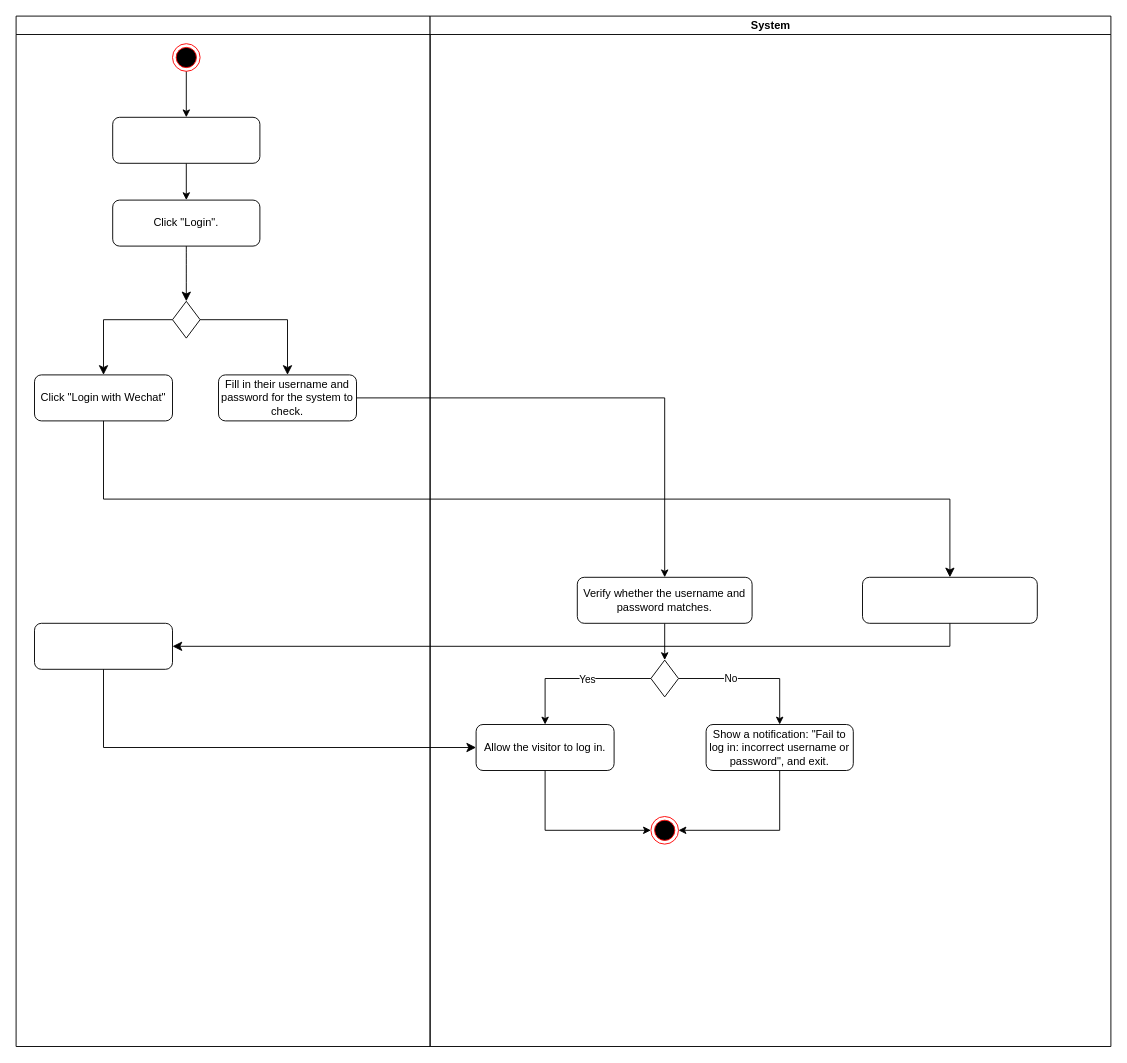
Image size: 1127x1063. Some labels were removed from this diagram. The shapes that lost their labels are listed below. From the top down, each one's box as (x1, y1, x2, y2) in pixels, then its label:
(112, 116, 260, 163): Enter the website.
(15, 15, 430, 1046): Visitor
(862, 576, 1037, 623): Generate a Wechat QR code for users to scan
(34, 622, 172, 669): Use Wechat to scan the code
